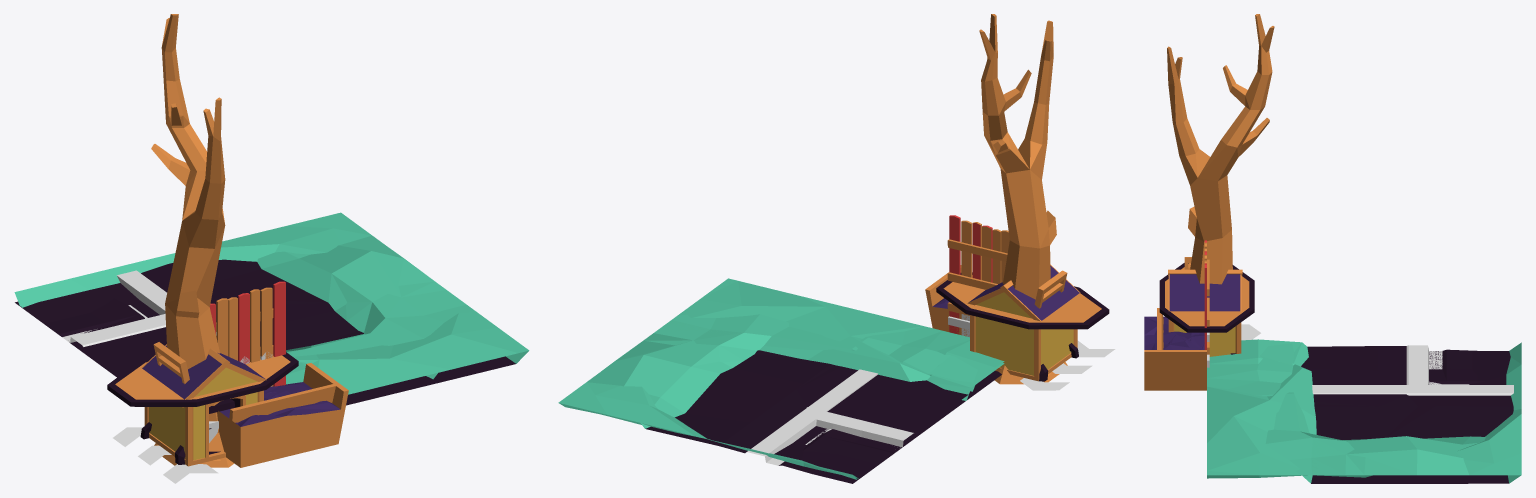
Rendered from Stuff_3.fbx.
3 views of the same model, side by side, from view 1: azimuth 30°, elevation 25°; view 2: azimuth 150°, elevation 25°; view 3: azimuth 270°, elevation 25° (orthographic). The views are drawn at different scales.
Visible parts, largest first — view 1: boden_gehweg_1.001, winterbaum, boden_kreisgerade, Hundehaus, boden_kreis, Beet_6, boden_gehweg_ecke, Zaun_2_halb, tisch, Beet_5, Reifenspur, stuhl; view 2: boden_gehweg_1.001, boden_kreisgerade, winterbaum, boden_gehweg_ecke, Hundehaus, boden_kreis, Zaun_2_halb, tisch, Reifenspur, Beet_5; view 3: boden_gehweg_1.001, boden_kreisgerade, winterbaum, boden_gehweg_ecke, Hundehaus, boden_kreis, tisch, Beet_5, Beet_6, Zaun_2_halb.
Boxes of the visible parts, x1,y1,x2,y2 form: boden_gehweg_1.001: (15,220,528,384); winterbaum: (151,14,233,467); boden_kreisgerade: (15,253,528,394); Hundehaus: (141,344,266,466); boden_kreis: (14,212,528,405); Beet_6: (217,363,348,467); boden_gehweg_ecke: (16,259,465,399); Zaun_2_halb: (209,281,285,386); tisch: (107,344,298,464); Beet_5: (217,363,335,459); Reifenspur: (113,427,218,483); stuhl: (153,342,189,383); boden_gehweg_1.001: (568,278,994,483); boden_kreisgerade: (559,279,1004,480); winterbaum: (979,14,1067,384); boden_gehweg_ecke: (616,320,1001,483); Hundehaus: (967,264,1080,381); boden_kreis: (558,347,1004,478); Zaun_2_halb: (947,215,1009,336); tisch: (936,272,1109,381); Reifenspur: (1020,340,1115,390); Beet_5: (925,272,969,336); boden_gehweg_1.001: (1207,343,1513,475); boden_kreisgerade: (1207,339,1521,483); winterbaum: (1167,14,1274,284); boden_gehweg_ecke: (1311,351,1513,475); Hundehaus: (1168,269,1242,356); boden_kreis: (1207,342,1521,478); tisch: (1159,263,1254,354); Beet_5: (1157,308,1206,390); Beet_6: (1144,316,1206,390); Zaun_2_halb: (1204,240,1209,354).
Bounding box in the file's own units: 629 × 603 × 600.
